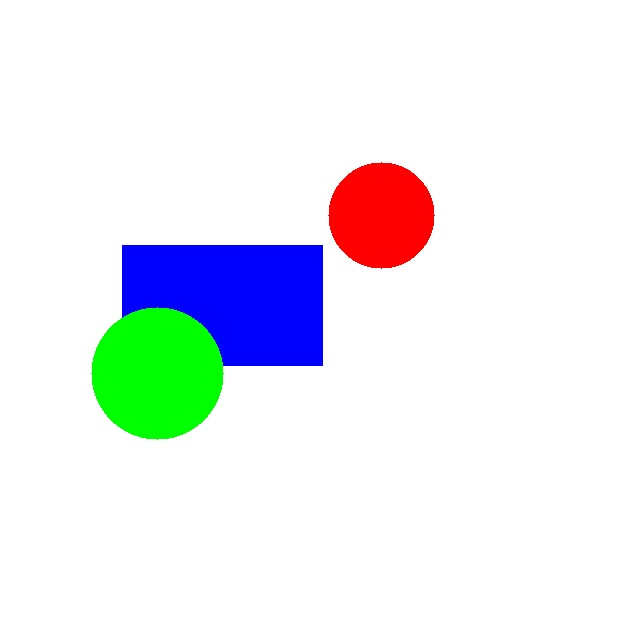cartao: (122, 245, 322, 365)
rosca_externa: (91, 307, 223, 439)
rosca_interna: (328, 162, 434, 268)
